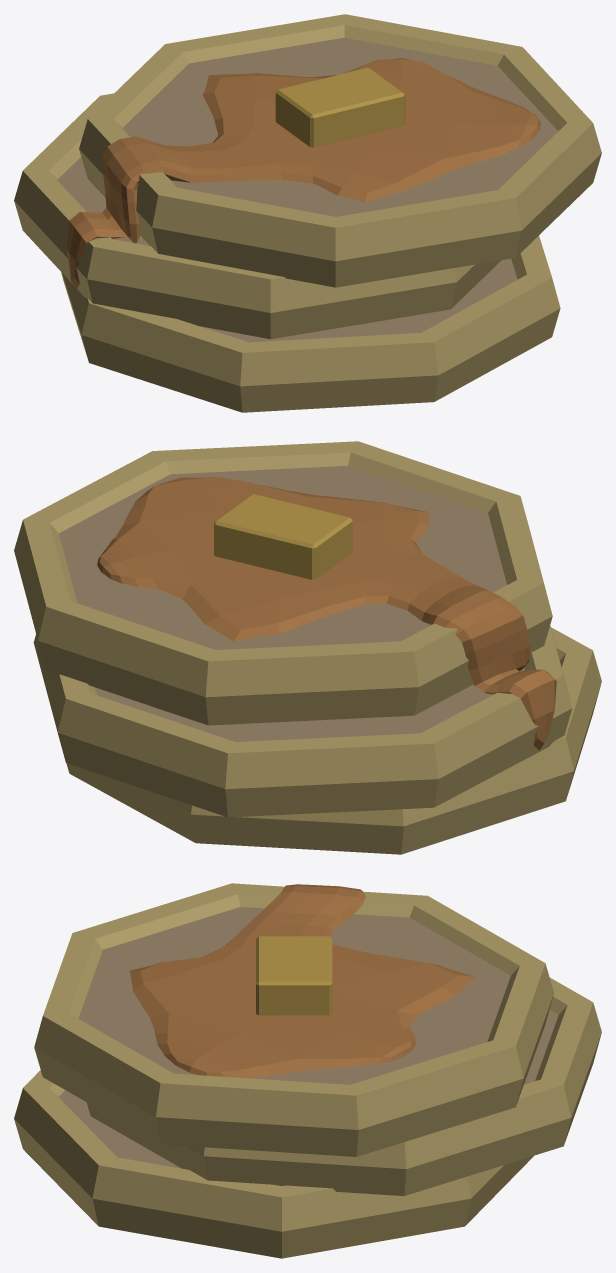
3 views of the same model, one above another, from view 1: azimuth 30°, elevation 25°; view 2: azimuth 150°, elevation 25°; view 3: azimuth 270°, elevation 25° (orthographic). The views are drawn at different scales.
Visible parts, largest first — view 1: mesh_0, mesh_3, mesh_1, mesh_2; view 2: mesh_0, mesh_3, mesh_1, mesh_2; view 3: mesh_0, mesh_3, mesh_1, mesh_2.
Boxes of the visible parts, left/top/right/bottom form: mesh_0: left=14, top=14, right=601, bottom=412; mesh_3: left=66, top=58, right=540, bottom=288; mesh_1: left=57, top=37, right=557, bottom=342; mesh_2: left=275, top=67, right=405, bottom=147; mesh_0: left=14, top=441, right=601, bottom=854; mesh_3: left=97, top=477, right=556, bottom=750; mesh_1: left=59, top=466, right=524, bottom=741; mesh_2: left=214, top=494, right=352, bottom=579; mesh_0: left=14, top=883, right=601, bottom=1258; mesh_3: left=129, top=884, right=475, bottom=1078; mesh_1: left=59, top=907, right=558, bottom=1168; mesh_2: left=256, top=936, right=332, bottom=1015.
Size of the model in its own units: 1.58 by 0.6374 by 1.62.
